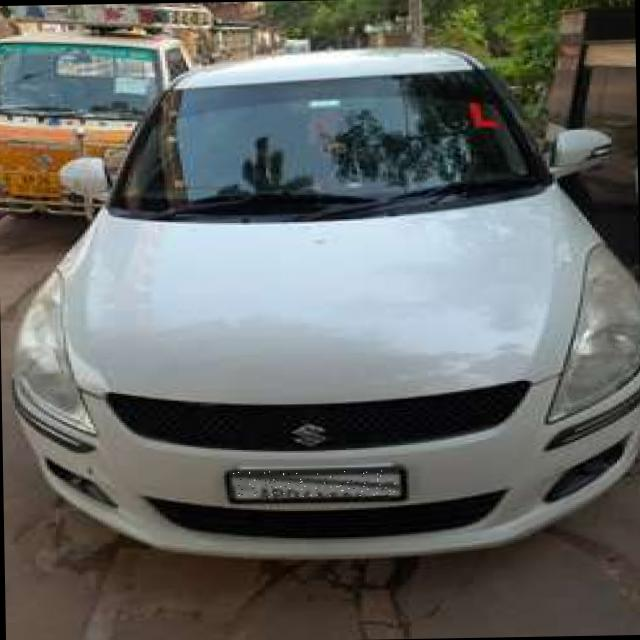Plate: (230, 470, 400, 499)
